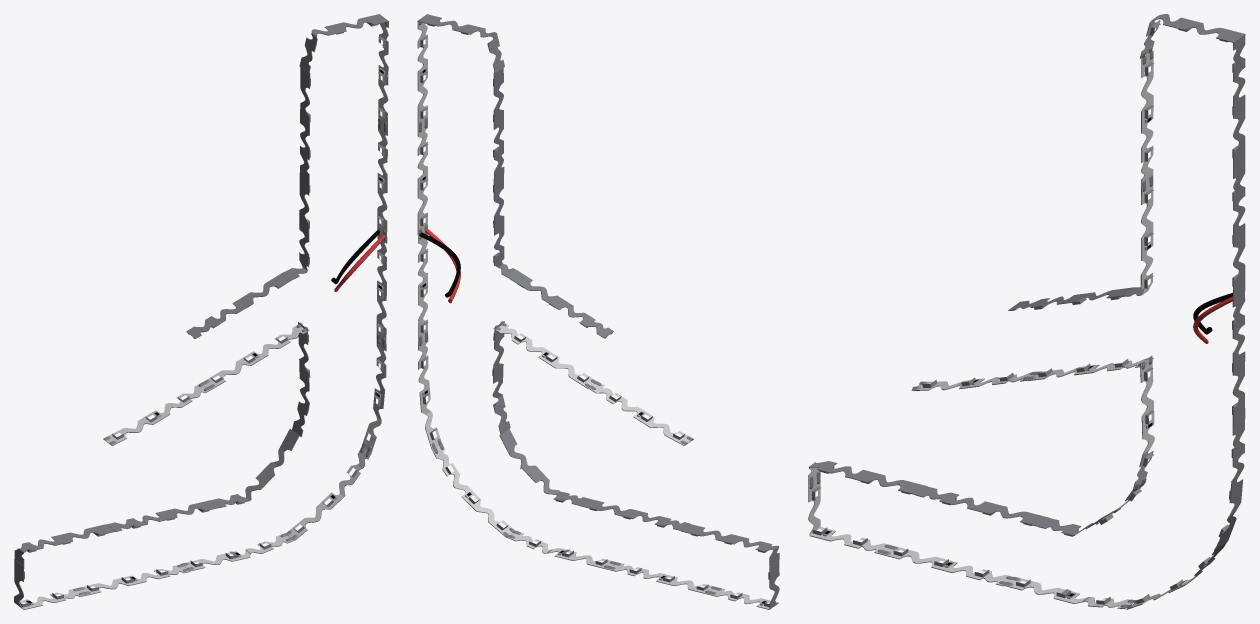
The model's file is fixed001-v14.glb.
3 views of the same model, side by side, from view 1: azimuth 30°, elevation 25°; view 2: azimuth 150°, elevation 25°; view 3: azimuth 330°, elevation 25° (orthographic). The views are drawn at different scales.
Visible parts, largest first — view 1: fixed.001; view 2: fixed.001; view 3: fixed.001.
Part boxes in pixels (<box>): fixed.001: <box>14,14,388,609</box>; fixed.001: <box>417,14,779,609</box>; fixed.001: <box>808,14,1245,609</box>.
Bounding box in the file's own units: 36.31 × 48.57 × 3.12.
